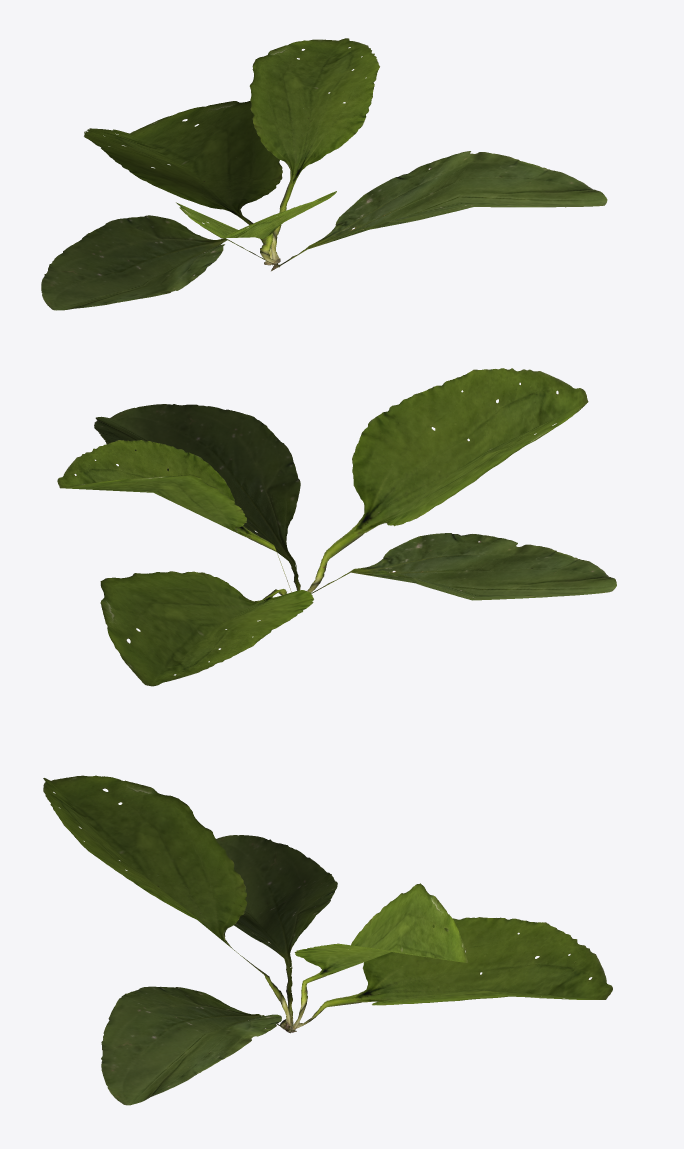
Rendered from SM_Plant_Small_02.fbx.
3 views of the same model, one above another, from view 1: azimuth 30°, elevation 25°; view 2: azimuth 150°, elevation 25°; view 3: azimuth 270°, elevation 25° (orthographic). The views are drawn at different scales.
Parts seen in each view (by area): view 1: SM_Plant_Small_02; view 2: SM_Plant_Small_02; view 3: SM_Plant_Small_02.
Boxes of the visible parts, x1,y1,x2,y2 form: SM_Plant_Small_02: [41, 38, 607, 310]; SM_Plant_Small_02: [57, 368, 616, 686]; SM_Plant_Small_02: [43, 775, 612, 1105].
Size of the model in its own units: 14.48 by 12.36 by 4.06.
1 material, 1 textured.
